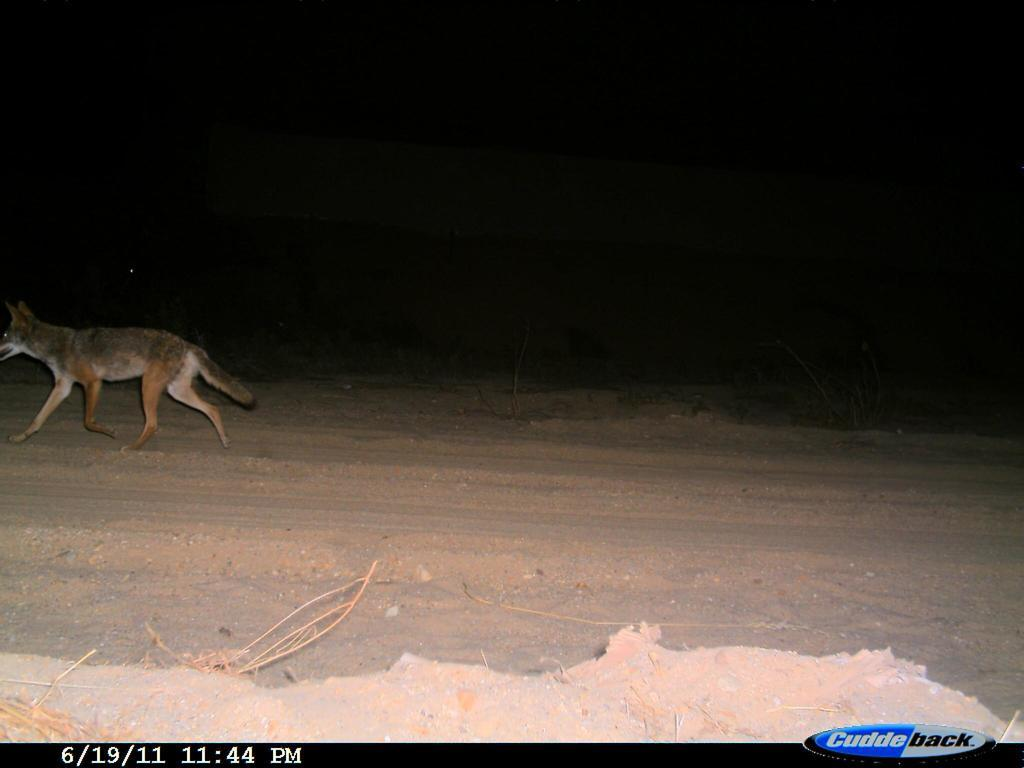coyote: (1, 294, 255, 462)
